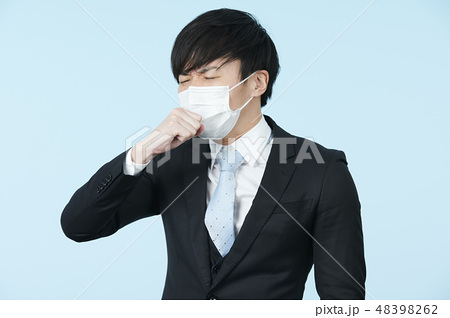mask: (165, 83, 233, 139)
